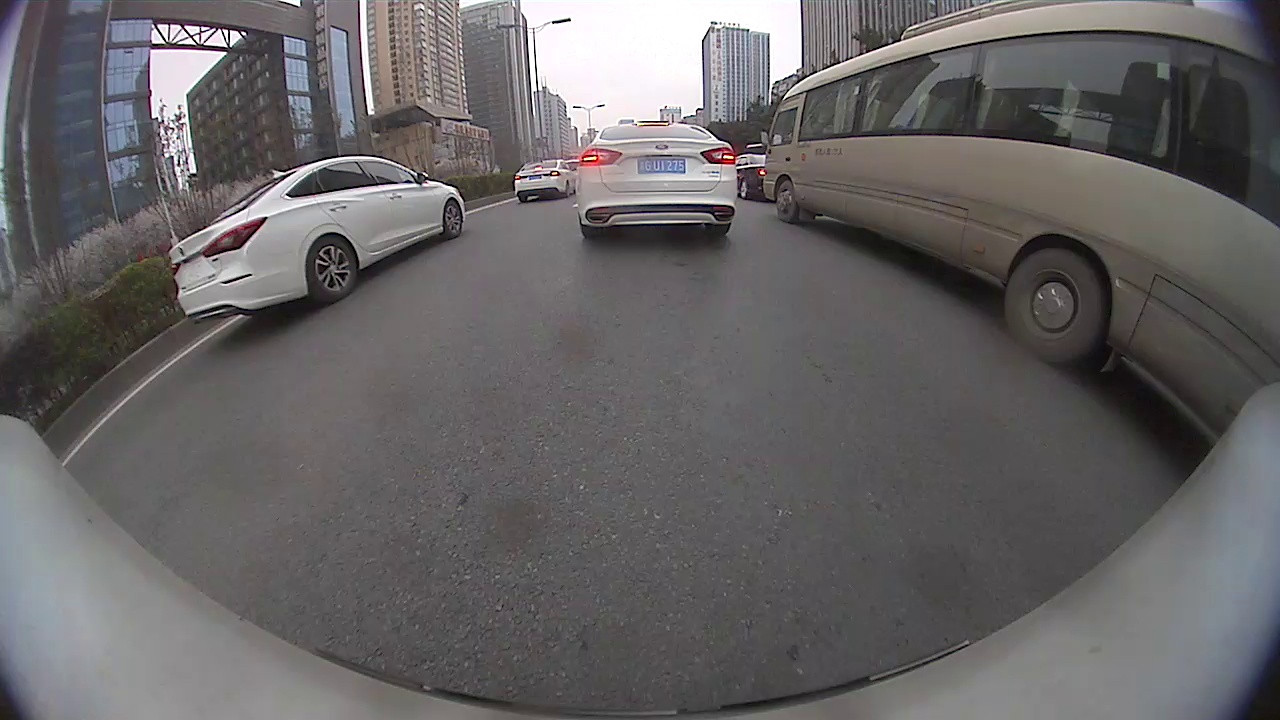bus: (765, 0, 1279, 445)
car: (167, 154, 469, 321), (577, 121, 738, 237), (515, 158, 578, 201), (740, 154, 764, 198)
front: (774, 178, 797, 224), (441, 198, 464, 238)
rear: (1002, 249, 1105, 365), (307, 234, 359, 301)
